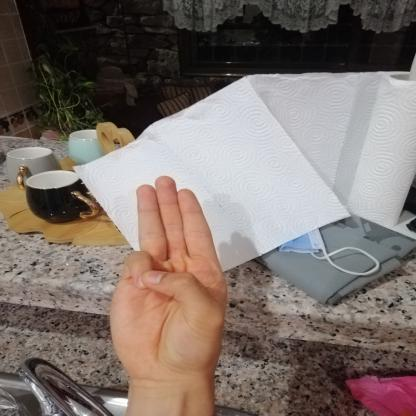THA: (92, 168, 248, 390)
